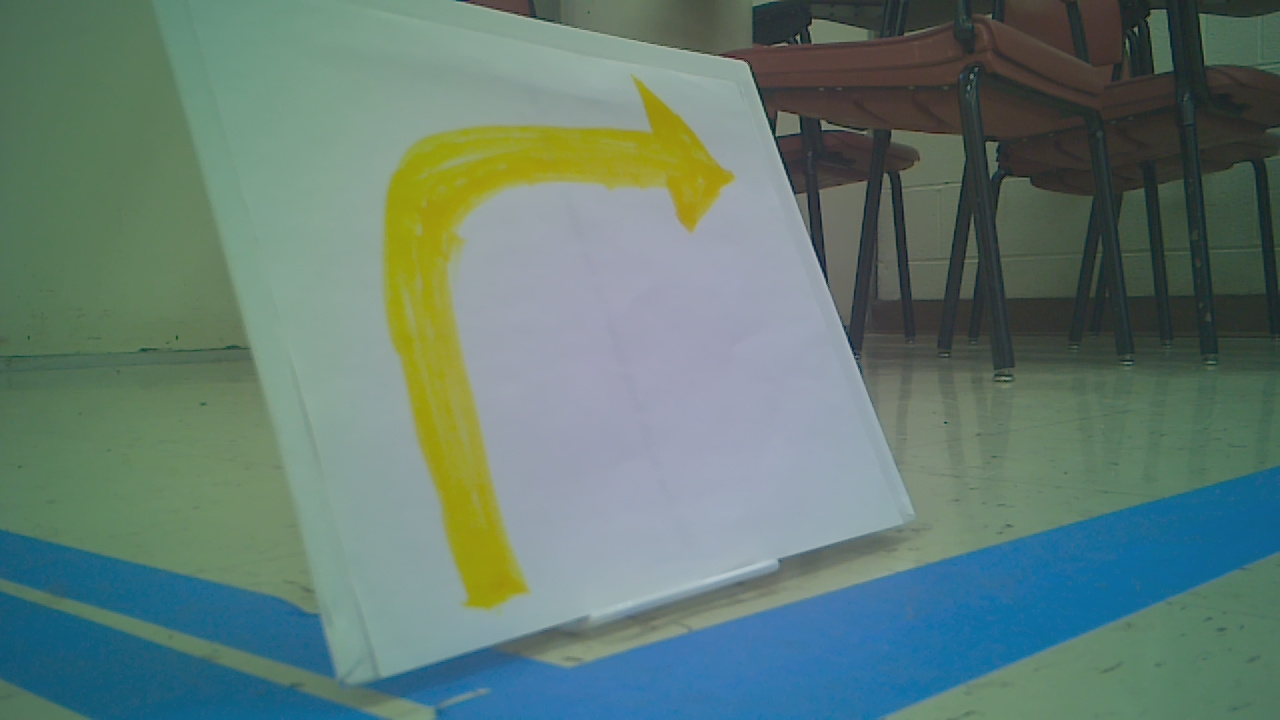right: (383, 73, 737, 619)
